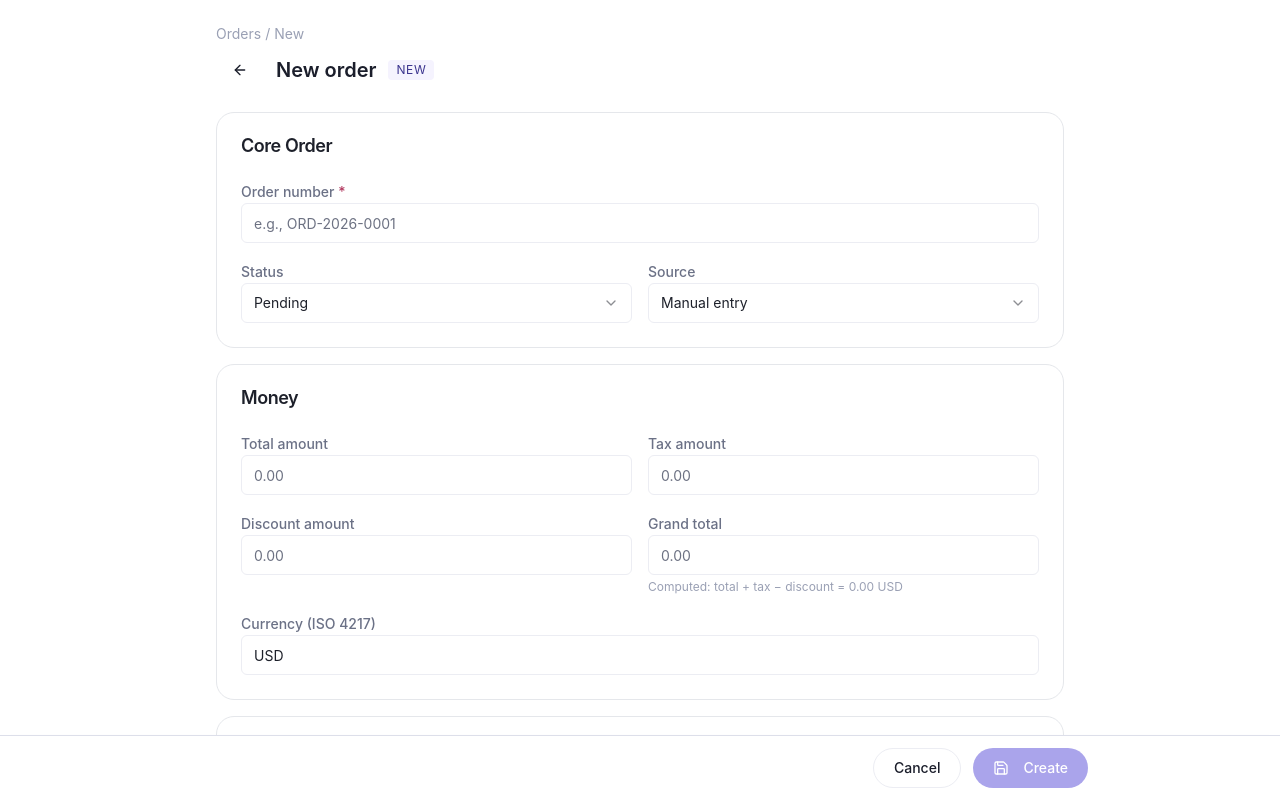
KAN-945 — OrderForm › (6) Validation: empty orderNumber + Save → required error
Type "CAD" into the field labelled "Currency (ISO 4217)".
click(640, 655); type("CAD")  # box [241, 635, 1039, 675]
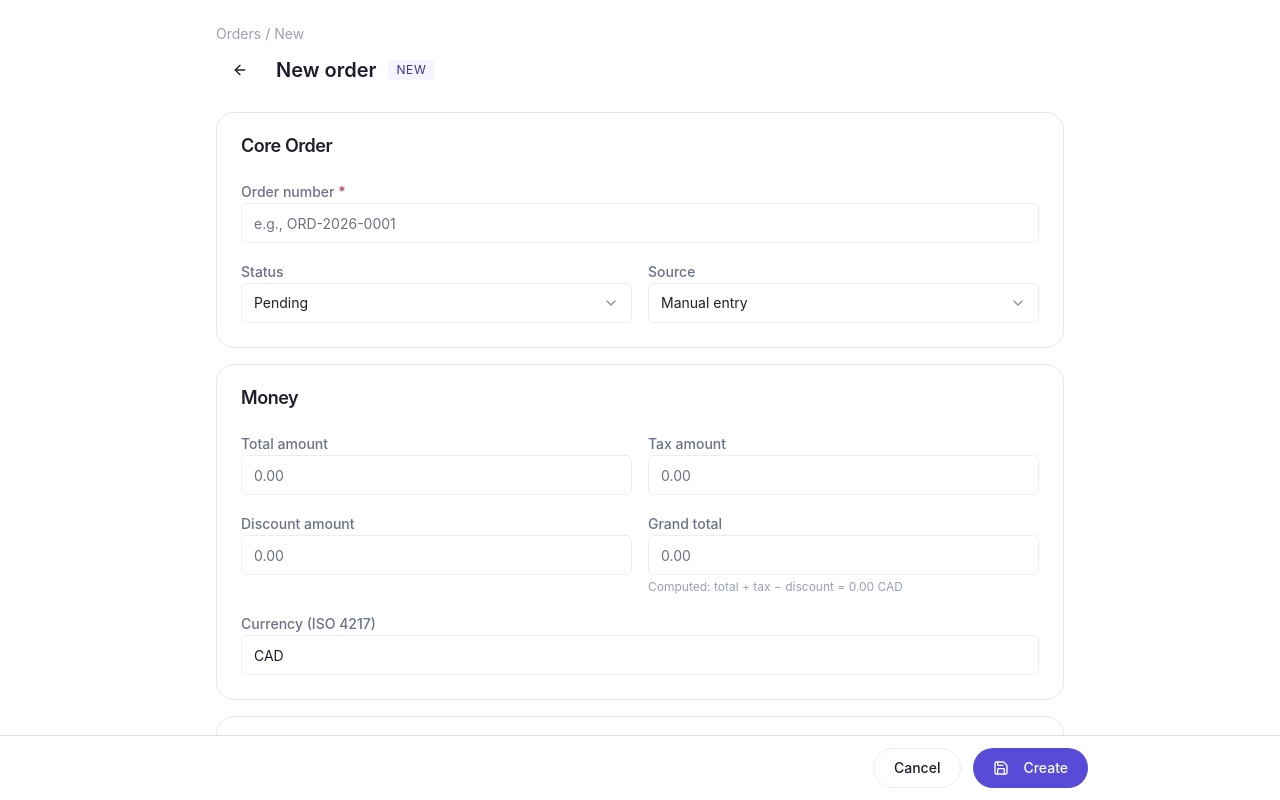
Click the button "Create".
click(1031, 768)  # box [973, 748, 1088, 788]
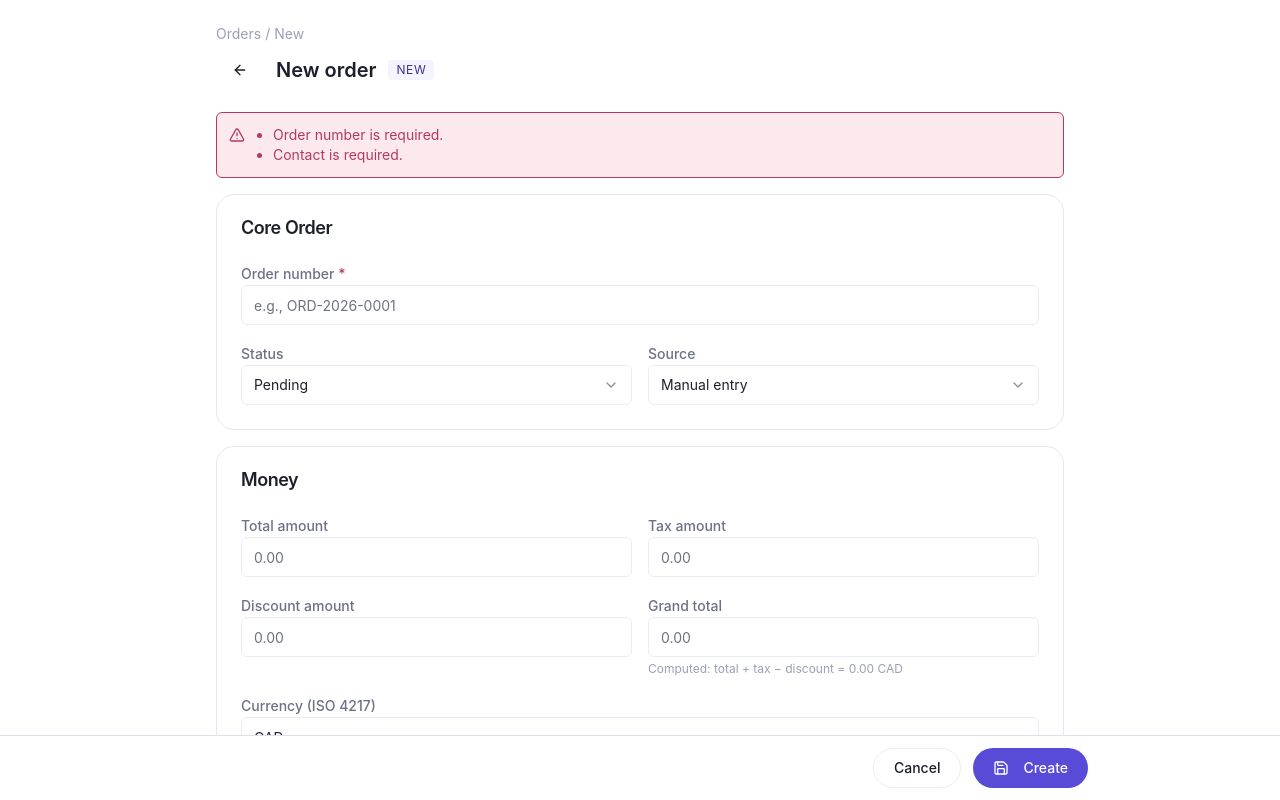
Check: the list item "Order number is required." is shown, box [273, 125, 443, 145]
